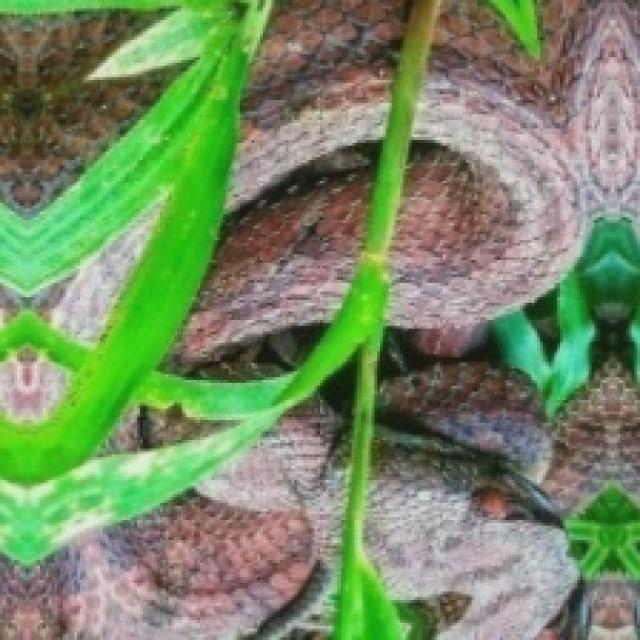philippine pitviper: (369, 0, 640, 640), (0, 371, 351, 640), (168, 0, 408, 379), (0, 12, 175, 210), (31, 212, 152, 341), (106, 408, 218, 452), (0, 352, 68, 419), (0, 289, 21, 322)
